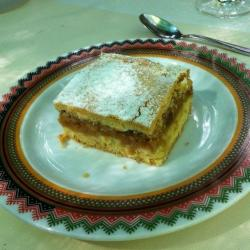apple_pie: (40, 46, 203, 176)
